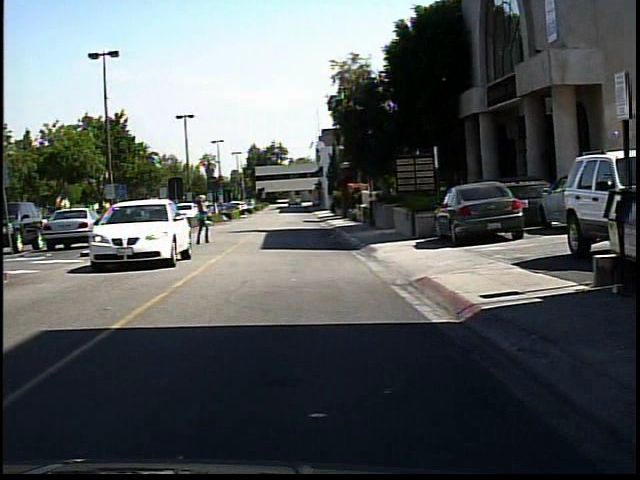person: (188, 190, 214, 249)
